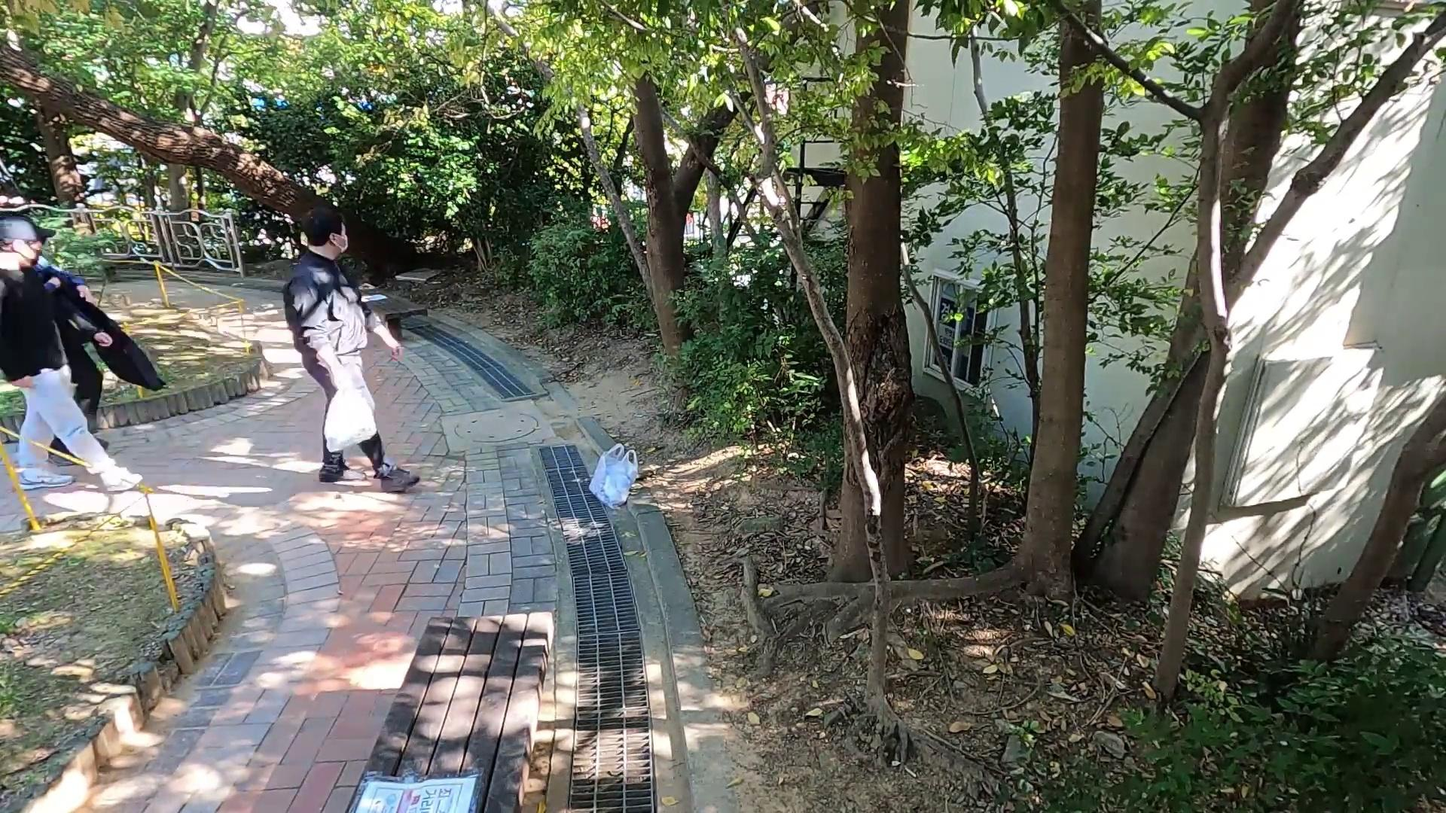person: (0, 216, 149, 499), (282, 203, 421, 494)
trash: (322, 383, 379, 455), (590, 443, 642, 510)
